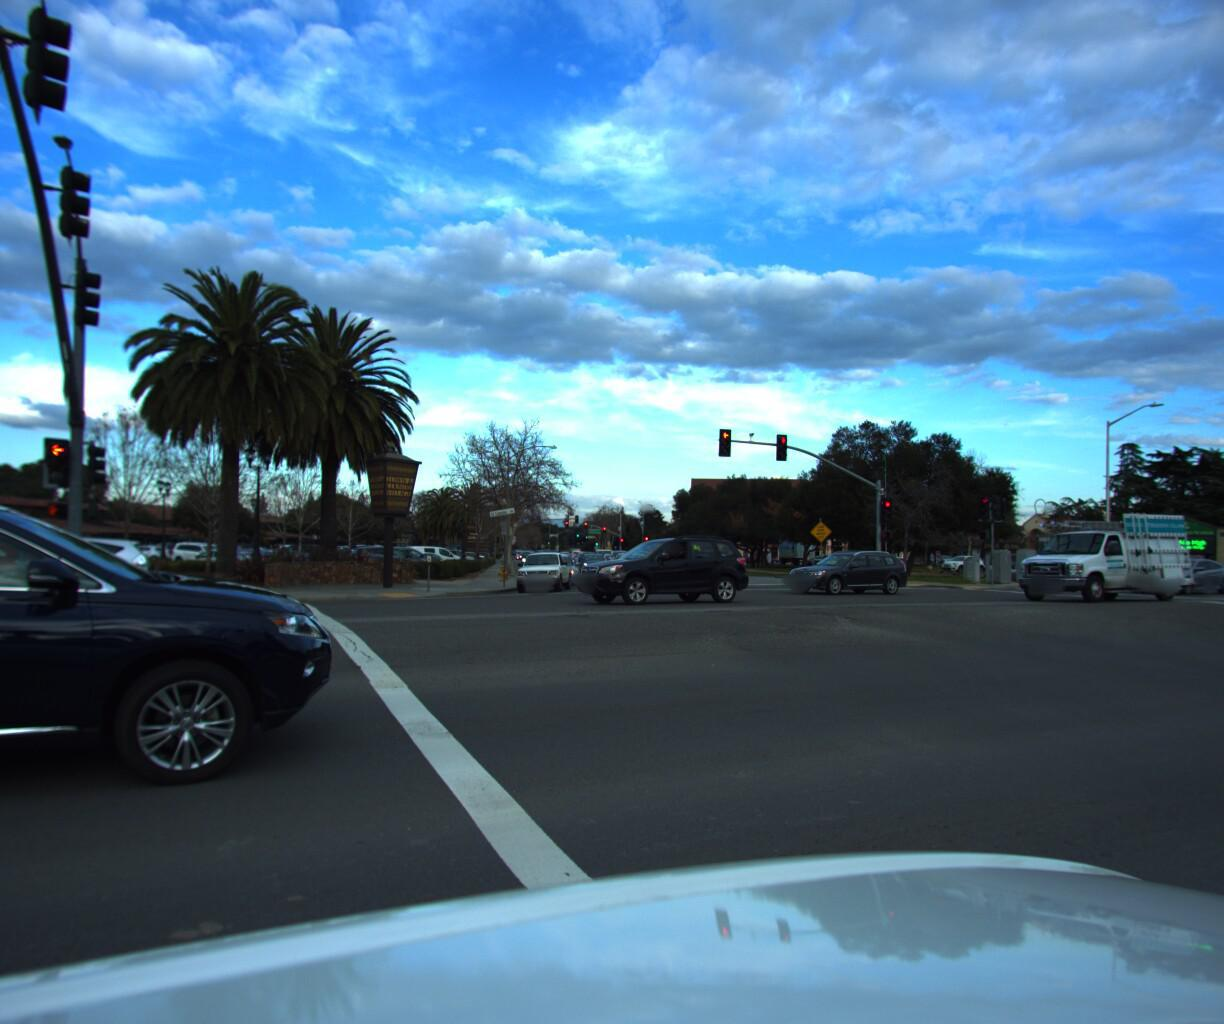car: (0, 446, 397, 898), (999, 507, 1198, 601), (563, 523, 749, 608), (0, 534, 154, 618), (779, 545, 911, 593), (1123, 547, 1224, 588), (510, 546, 573, 594), (346, 541, 430, 573), (531, 544, 577, 585), (397, 540, 467, 567), (578, 547, 606, 570)
